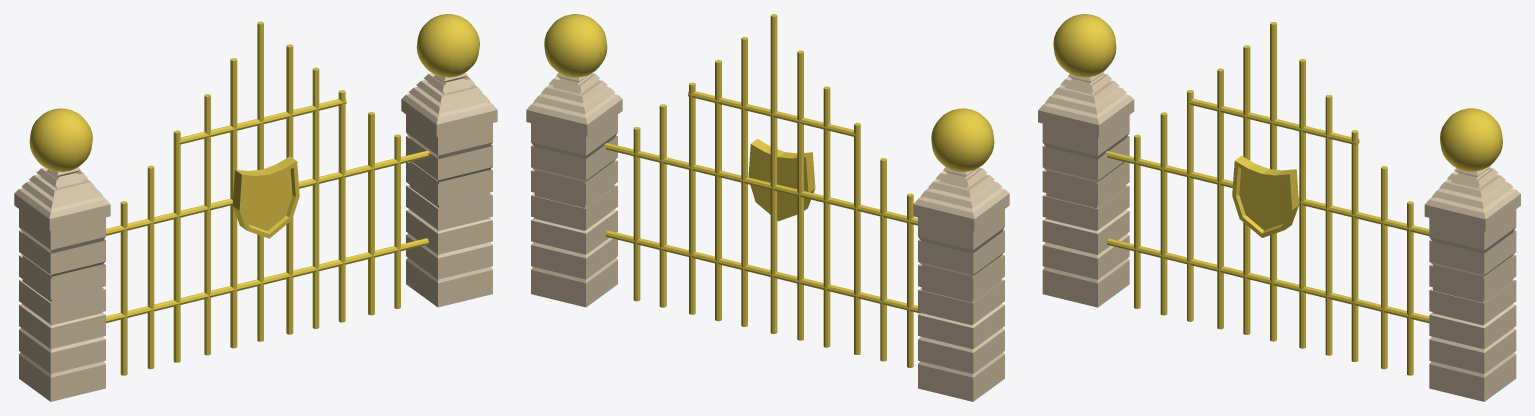
The model's file is Exp_PearlyGates.fbx.
3 renders of one model, left to right at view 1: azimuth 30°, elevation 25°; view 2: azimuth 150°, elevation 25°; view 3: azimuth 330°, elevation 25°, orthographic.
Parts seen in each view (by area): view 1: PearlyGates; view 2: PearlyGates; view 3: PearlyGates.
Boxes of the visible parts, box(x1,y1,x2,y2) form: PearlyGates: box(14, 14, 497, 401); PearlyGates: box(526, 14, 1009, 401); PearlyGates: box(1038, 14, 1520, 401).
Size of the model in its own units: 1622 by 1100 by 221.
